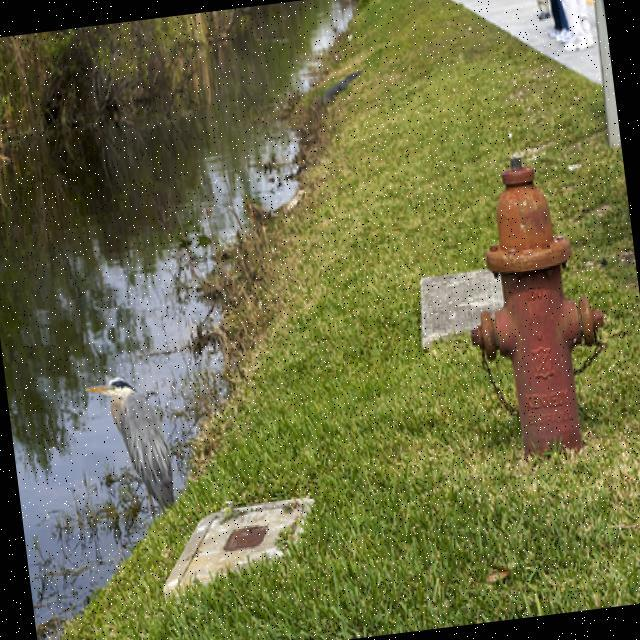fire_hydrant: (440, 139, 620, 466)
